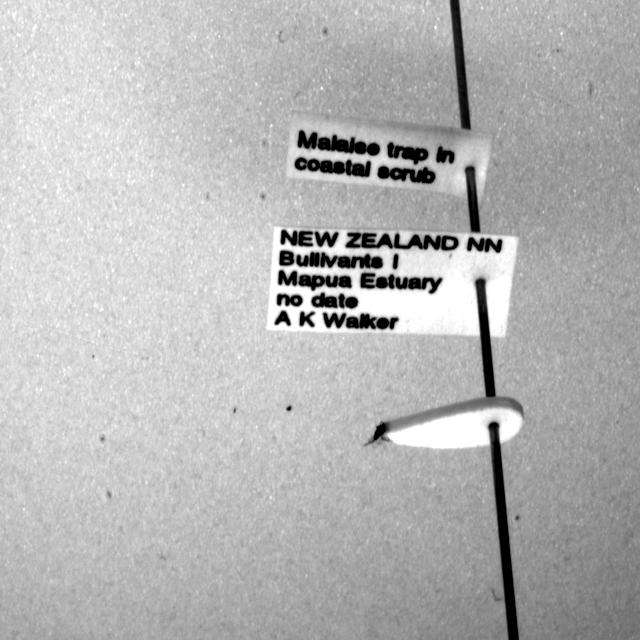typed_label: (268, 227, 518, 338), (286, 112, 492, 201)
